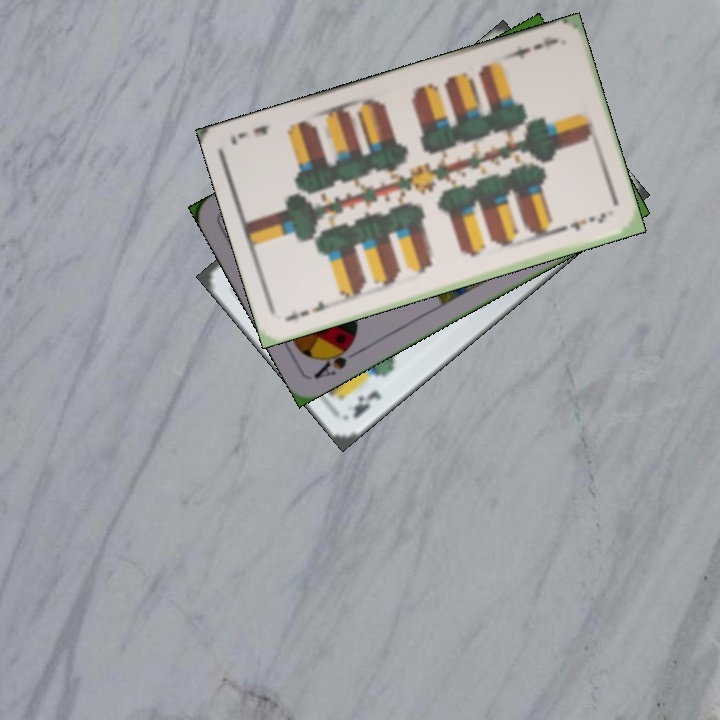E7: (502, 33, 560, 62), (280, 296, 338, 324)
EK: (349, 386, 384, 421)
SA: (310, 336, 364, 382)
